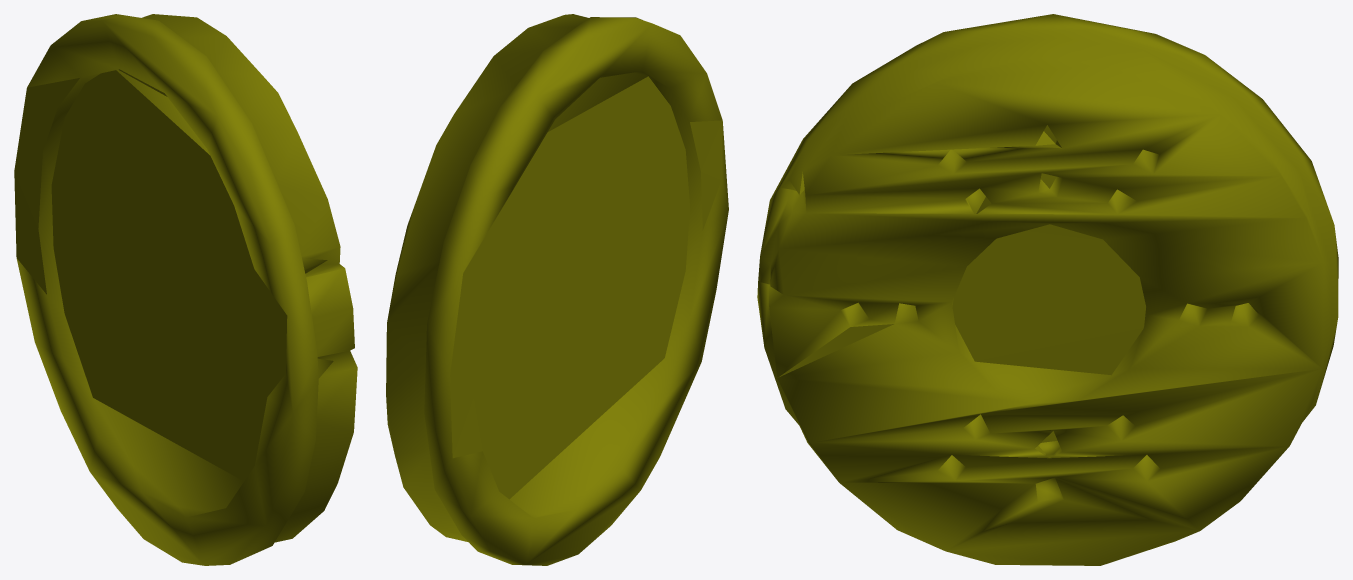
3 renders of one model, left to right at view 1: azimuth 30°, elevation 25°; view 2: azimuth 150°, elevation 25°; view 3: azimuth 270°, elevation 25°, orthographic. The views are drawn at different scales.
Visible parts, largest first — view 1: link_6_t; view 2: link_6_t; view 3: link_6_t.
Boxes of the visible parts, left/top/right/bottom form: link_6_t: left=14, top=14, right=357, bottom=565; link_6_t: left=386, top=14, right=728, bottom=565; link_6_t: left=757, top=14, right=1338, bottom=565.
Bounding box in the file's own units: 0.0273 × 0.1861 × 0.188.
